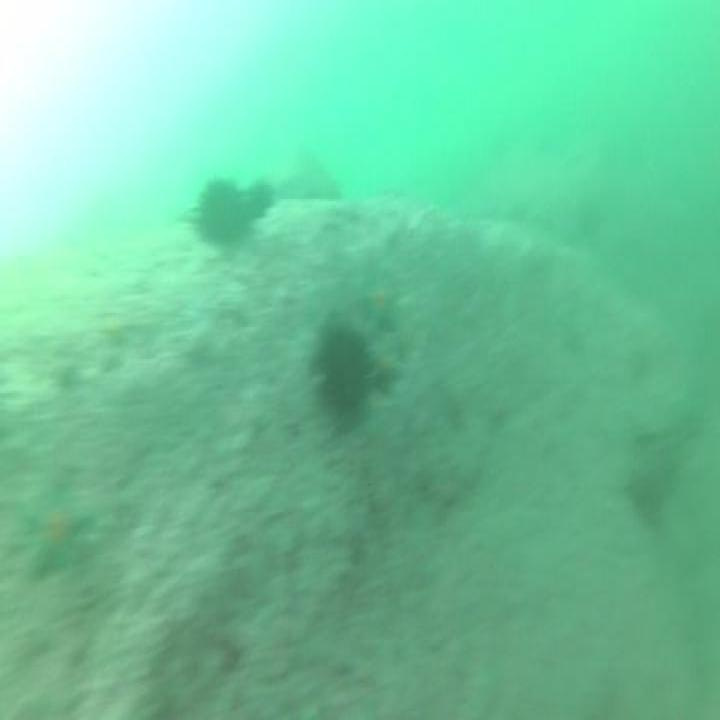echinus: (311, 318, 376, 425), (197, 172, 246, 256), (244, 176, 278, 222)
starfish: (21, 471, 92, 585), (359, 270, 405, 331)
